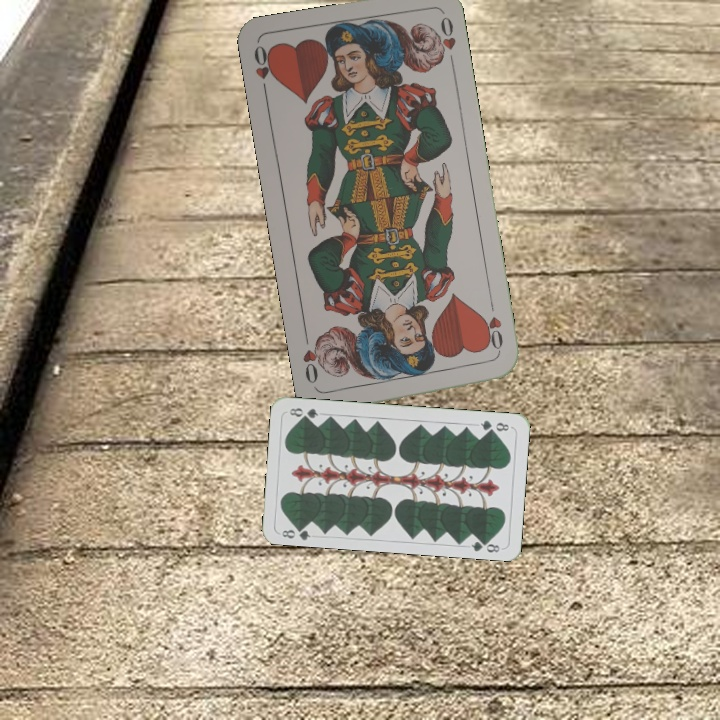G8: (278, 521, 313, 542), (476, 416, 512, 434)
HO: (249, 41, 278, 101), (478, 297, 506, 356)
